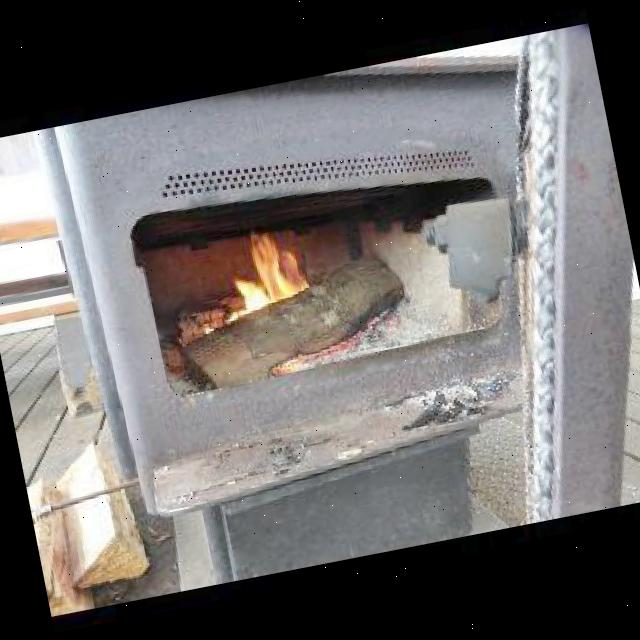fire: (218, 228, 312, 318)
